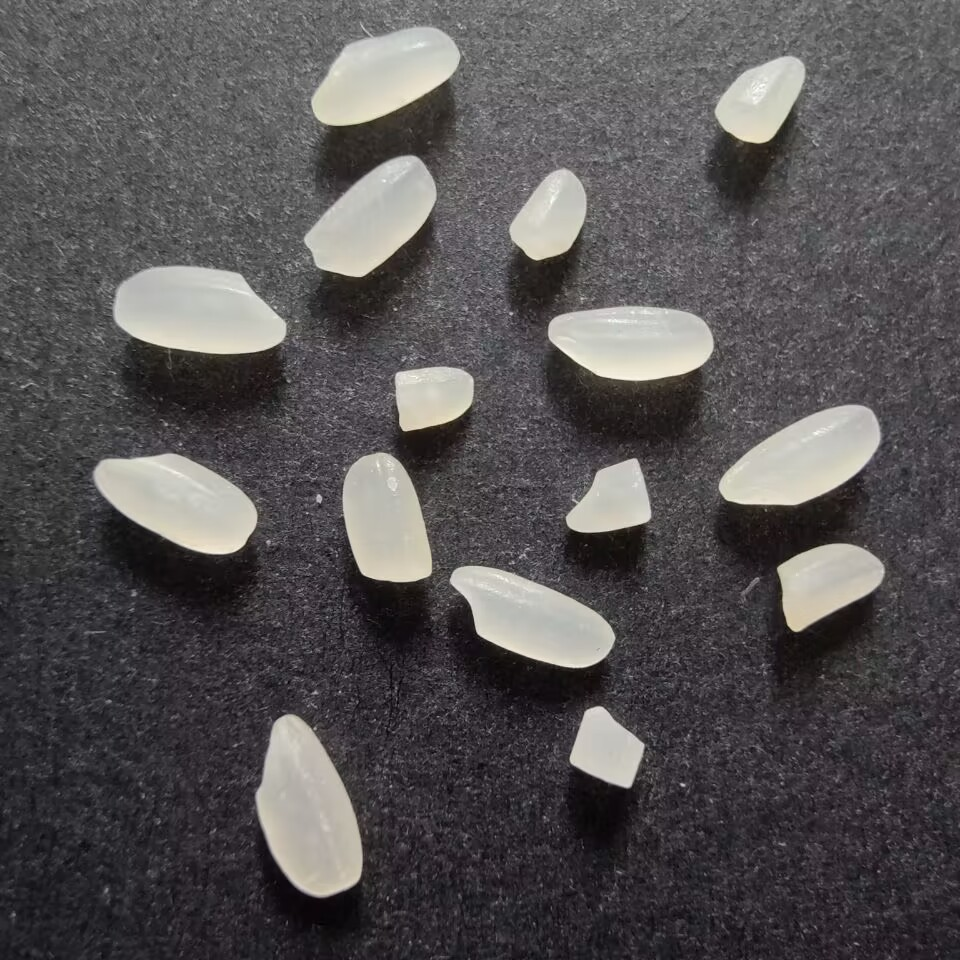broken: (302, 153, 438, 279), (333, 450, 433, 592), (772, 539, 888, 636), (712, 51, 807, 145), (560, 453, 658, 537), (506, 164, 590, 262), (568, 699, 651, 795), (389, 362, 480, 436)
rice: (254, 711, 367, 899), (445, 561, 620, 674), (89, 449, 258, 561), (709, 401, 883, 508), (306, 20, 462, 129), (108, 264, 294, 354), (544, 301, 717, 381)
